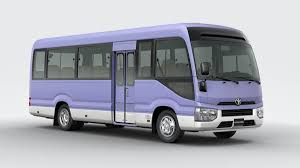bus: (26, 22, 265, 144)
